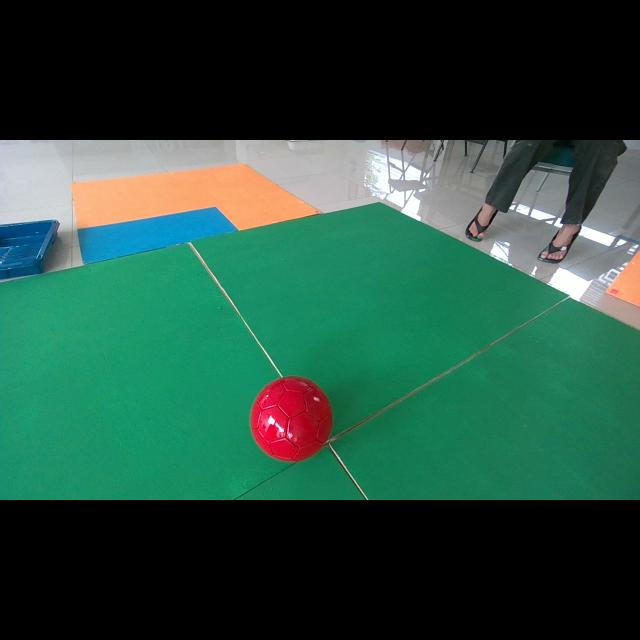R: (250, 376, 334, 462)
